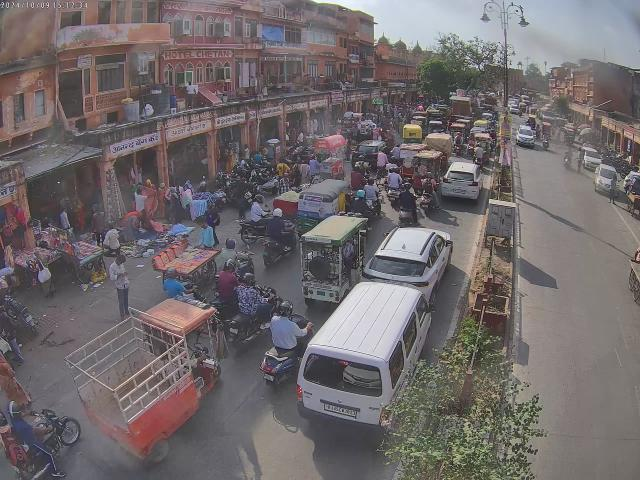auto: (297, 213, 369, 308), (402, 124, 423, 145)
bus: (294, 278, 436, 444)
car: (366, 226, 454, 291), (440, 159, 480, 202), (354, 140, 388, 170), (516, 125, 536, 147)
helmet: (276, 300, 296, 318)
license_plate: (324, 404, 359, 418), (263, 374, 274, 382), (454, 188, 466, 195), (316, 290, 326, 298), (230, 328, 238, 334)
lorry: (63, 296, 222, 460)
motorbike-rider: (2, 404, 82, 479), (539, 136, 550, 150)
person: (110, 254, 130, 318), (196, 220, 216, 248), (56, 207, 72, 231), (307, 156, 319, 182), (39, 215, 54, 233), (0, 236, 6, 266)
scooty-rider: (258, 304, 312, 391), (260, 213, 298, 267), (396, 185, 422, 226), (360, 180, 382, 214), (0, 274, 12, 304)
vendor: (157, 246, 219, 298)
